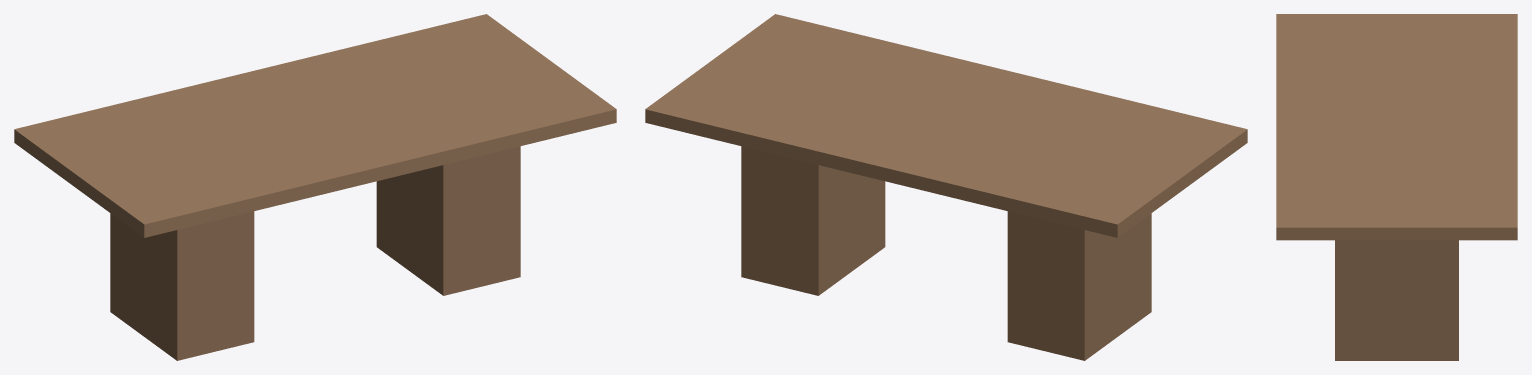
File: TOL-0108_R02_blender.glb
The picture shows the model from 3 angles, left to right: view 1: azimuth 30°, elevation 25°; view 2: azimuth 150°, elevation 25°; view 3: azimuth 270°, elevation 25°; orthographic projection. The views are drawn at different scales.
Visible parts, largest first — view 1: WalnutTableTop, FlutedPedestalLeft, FlutedPedestalRight; view 2: WalnutTableTop, FlutedPedestalLeft, FlutedPedestalRight; view 3: WalnutTableTop, FlutedPedestalRight.
Part boxes in pixels (x1,y1,x2,y2): WalnutTableTop: (14,14,616,237); FlutedPedestalLeft: (110,211,254,360); FlutedPedestalRight: (376,146,520,295); WalnutTableTop: (645,14,1247,237); FlutedPedestalLeft: (1007,211,1151,360); FlutedPedestalRight: (741,146,885,295); WalnutTableTop: (1276,14,1517,240); FlutedPedestalRight: (1335,240,1458,360).
Bounding box in the file's own units: 2.2 × 0.78 × 1.05.
